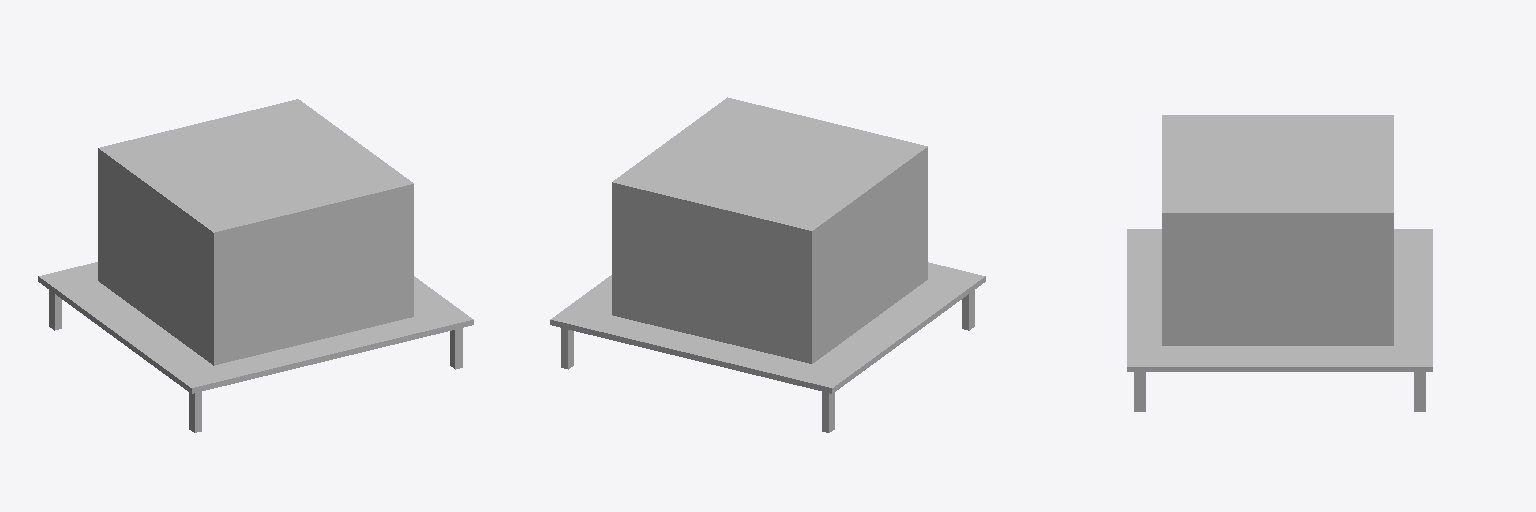
Rendered from container_tuopan.obj.
3 views of the same model, side by side, from view 1: azimuth 30°, elevation 25°; view 2: azimuth 150°, elevation 25°; view 3: azimuth 270°, elevation 25° (orthographic).
Visible parts, largest first — view 1: 立方体.1; view 2: 立方体.1; view 3: 立方体.1.
Part boxes in pixels (bbox=[...]): 立方体.1: bbox=[38, 99, 473, 432]; 立方体.1: bbox=[550, 97, 985, 432]; 立方体.1: bbox=[1127, 115, 1432, 411].
Bounding box in the file's own units: 62.98 × 38.89 × 59.22.